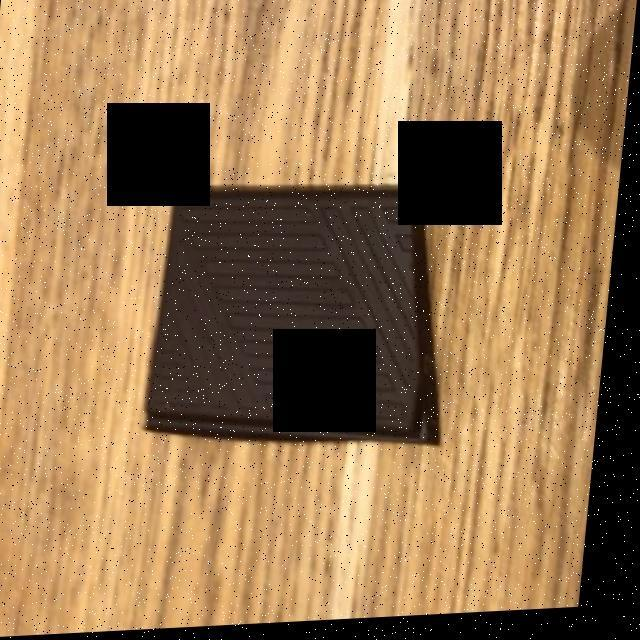chocolate: (144, 183, 459, 449)
